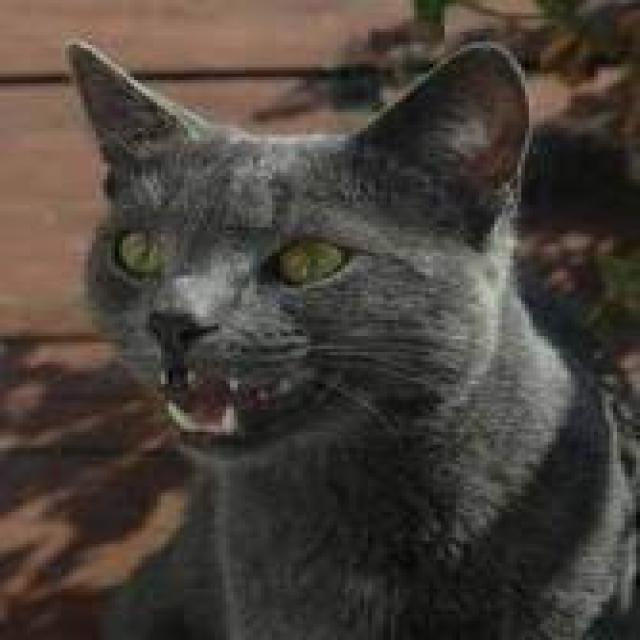Cat: (49, 33, 640, 640)
